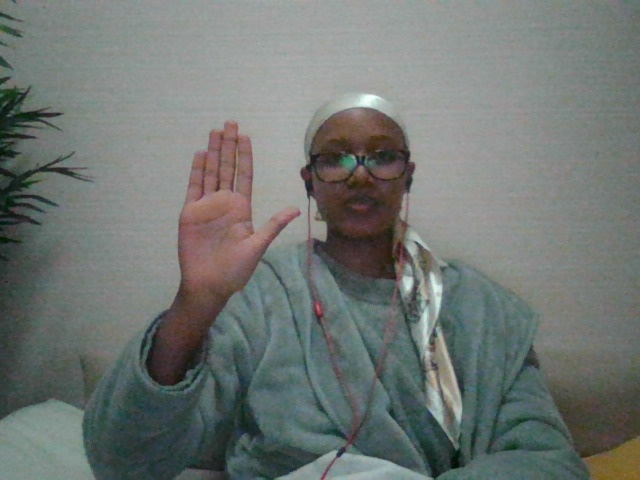highfive: (165, 114, 311, 310)
